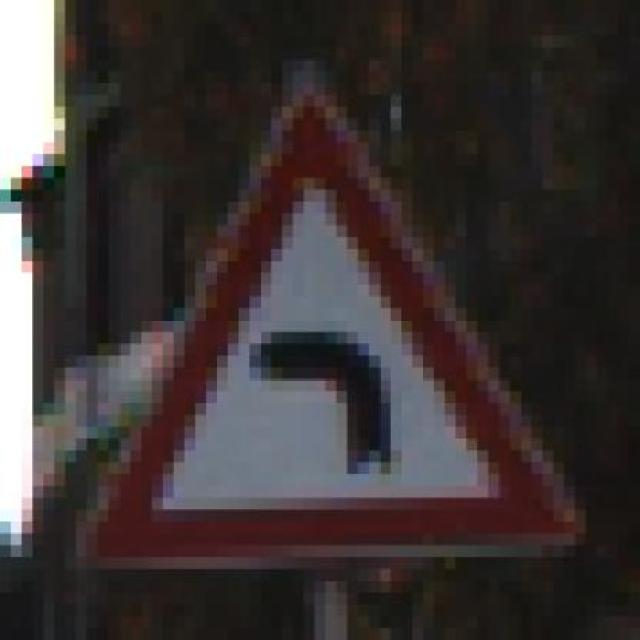Dangerous Left Curve Ahead: (97, 59, 586, 581)
